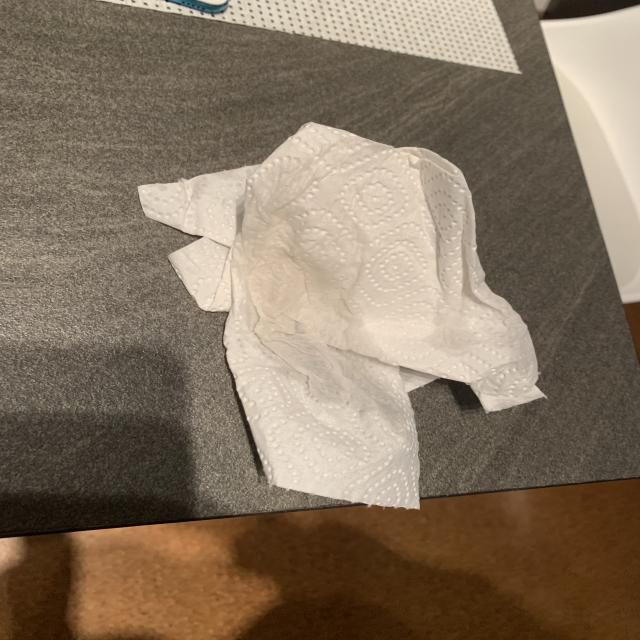kitchen paper: (140, 114, 552, 519)
